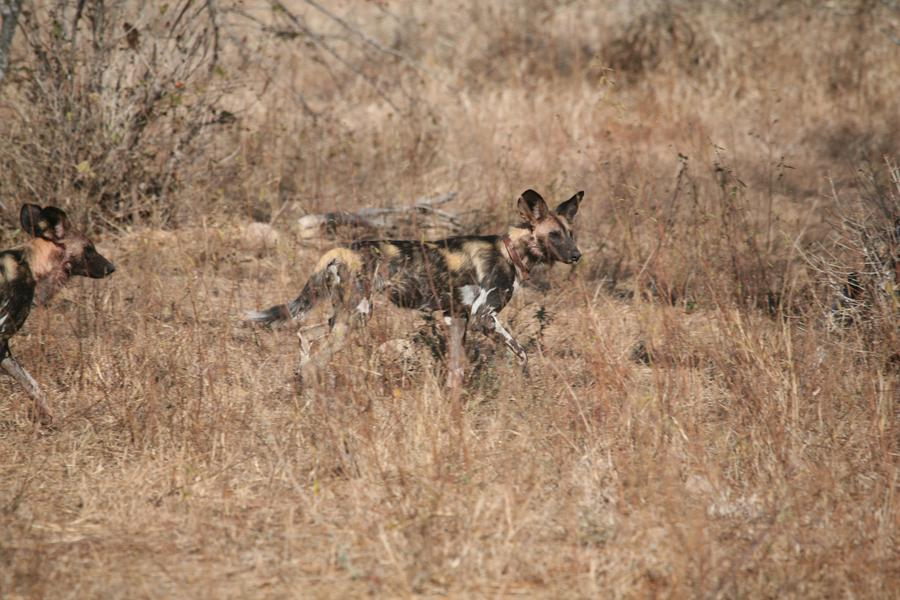wilddog: (282, 185, 588, 373), (3, 213, 110, 354)
